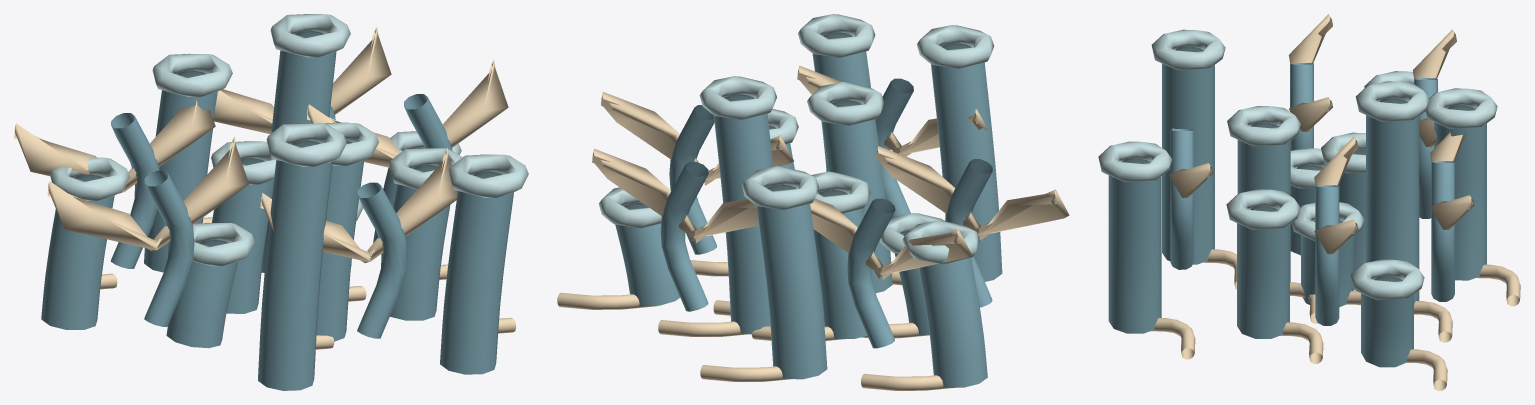
The model's file is bio_thermal_colony_07_far.glb.
3 renders of one model, left to right at view 1: azimuth 30°, elevation 25°; view 2: azimuth 150°, elevation 25°; view 3: azimuth 270°, elevation 25°, orthographic. The views are drawn at different scales.
Parts seen in each view (by area): view 1: Chimney biofilm.007, Chimney biofilm.010, Secondary fan lobe.008, Chimney biofilm.009, Chimney biofilm.002, Secondary fan lobe.002, Secondary fan lobe.006, Chimney biofilm.004, Chimney biofilm.005, Branching support.002, Branching support.004, Chimney biofilm.003 (+16 smaller); view 2: Chimney biofilm.006, Chimney biofilm.007, Chimney biofilm.003, Chimney biofilm.009, Secondary fan lobe.008, Secondary fan lobe.006, Chimney biofilm.002, Branching support.003, Branching support.001, Chimney biofilm.008, Chimney biofilm.001, Secondary fan lobe.002 (+22 smaller); view 3: Chimney biofilm.010, Chimney biofilm.003, Chimney biofilm.007, Chimney biofilm.005, Chimney biofilm.006, Chimney biofilm.008, Branching support, Branching support.003, Branching support.002, Chimney biofilm.002, Open vent rim.005, Open vent rim.008 (+26 smaller).
Part boxes in pixels (x1,y1,x2,y2): Chimney biofilm.007: (258, 160, 332, 390); Chimney biofilm.010: (440, 191, 513, 374); Secondary fan lobe.008: (47, 136, 248, 251); Chimney biofilm.009: (41, 195, 114, 329); Chimney biofilm.002: (316, 160, 364, 341); Secondary fan lobe.002: (14, 100, 215, 193); Secondary fan lobe.006: (213, 26, 391, 133); Chimney biofilm.004: (166, 261, 238, 348); Chimney biofilm.005: (390, 184, 450, 320); Branching support.002: (357, 182, 407, 338); Branching support.004: (144, 170, 194, 326); Chimney biofilm.003: (262, 50, 336, 272); Chimney biofilm.006: (756, 185, 827, 379); Chimney biofilm.007: (931, 46, 1002, 281); Chimney biofilm.003: (713, 97, 773, 334); Chimney biofilm.009: (919, 258, 987, 387); Secondary fan lobe.008: (876, 146, 1069, 239); Secondary fan lobe.006: (592, 148, 758, 242); Chimney biofilm.002: (821, 103, 892, 292); Branching support.003: (660, 161, 708, 311); Branching support.001: (847, 198, 895, 348); Chimney biofilm.008: (615, 223, 680, 306); Chimney biofilm.001: (813, 193, 874, 338); Secondary fan lobe.002: (810, 198, 971, 279); Chimney biofilm.010: (1108, 161, 1161, 333); Chimney biofilm.003: (1366, 101, 1419, 304); Chimney biofilm.007: (1162, 50, 1214, 264); Chimney biofilm.005: (1237, 209, 1289, 338); Chimney biofilm.006: (1434, 108, 1486, 280); Chimney biofilm.008: (1361, 280, 1413, 367); Branching support: (1315, 185, 1339, 325); Branching support.003: (1431, 161, 1454, 301); Branching support.002: (1170, 129, 1193, 269); Chimney biofilm.002: (1237, 126, 1290, 282); Open vent rim.005: (1226, 189, 1300, 229); Open vent rim.008: (1350, 259, 1424, 300).
Size of the model in its own units: 1.85 by 0.9503 by 1.59.
